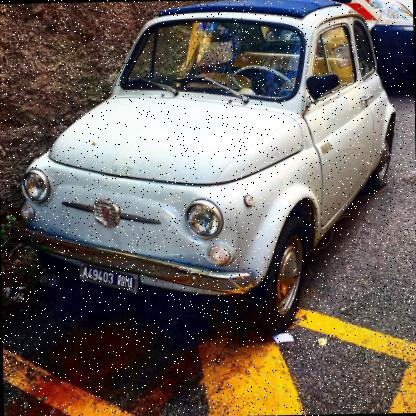Car: (0, 0, 414, 358), (316, 0, 414, 84)
